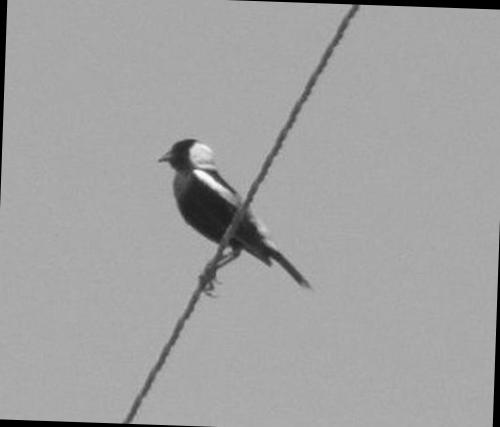bird: (144, 126, 326, 310)
